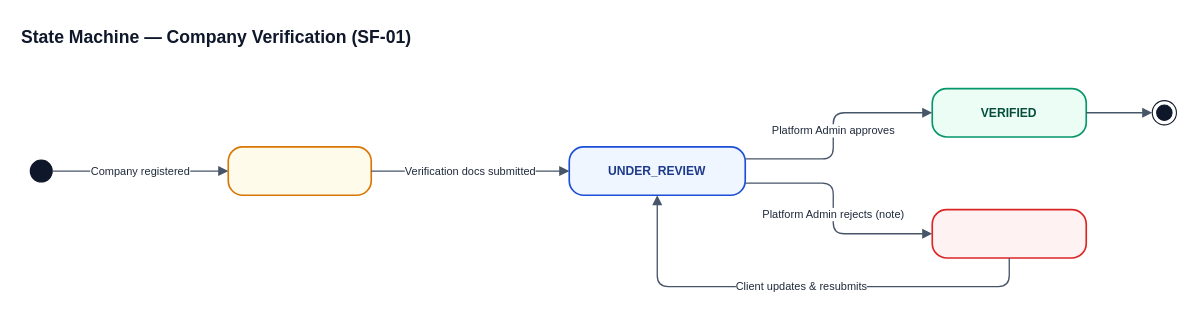
This 1203x315 diagram has some shape labels left out. Here are the shapes that lost their labels. From the top down, the centre of each, then its label:
point (299, 171): PENDING
point (1009, 233): REJECTED
